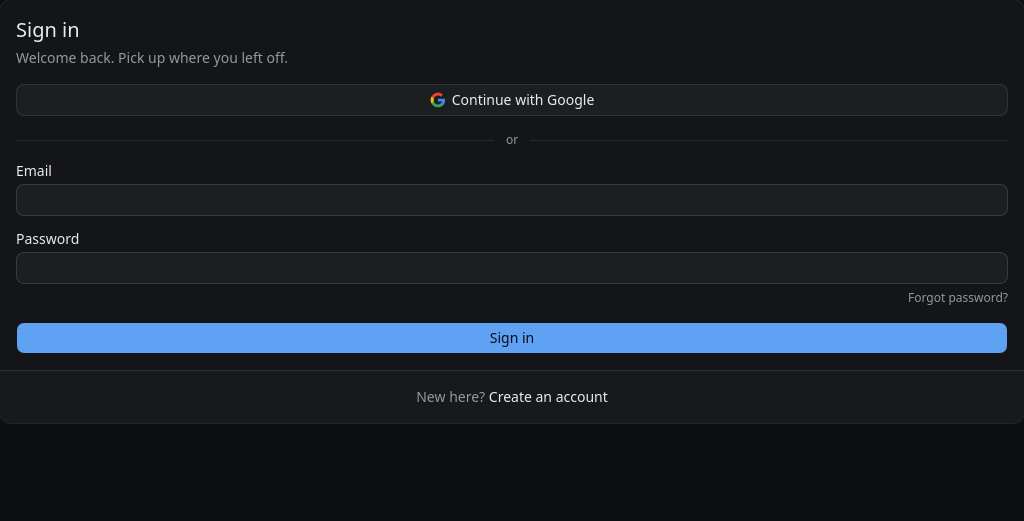
LoginPage › offers to resend the confirmation email for unconfirmed accounts
Type "ada@example.com" into the field labelled "Email" at (512, 200), box [16,184,1008,216]
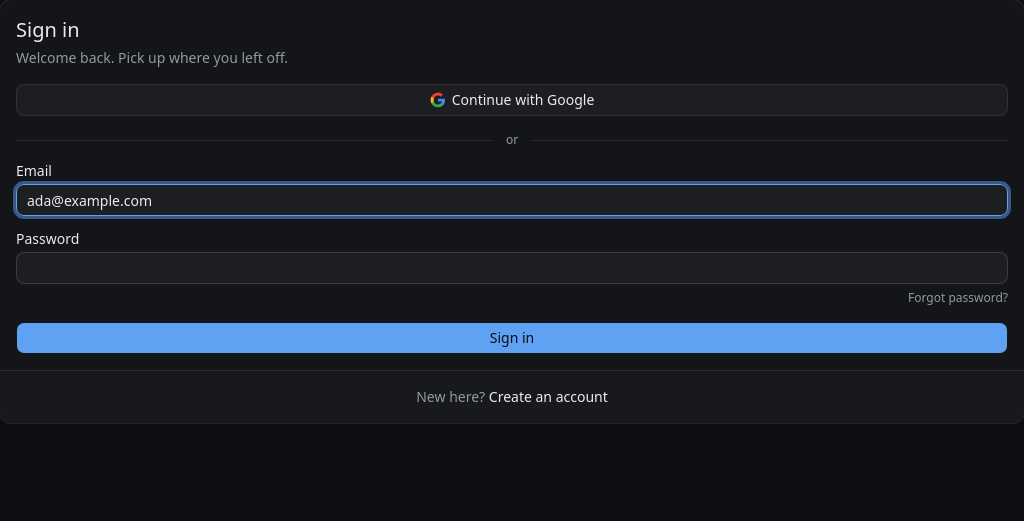
Type "whatever1" into the password field labelled "Password" at (512, 268), box [16,252,1008,284]
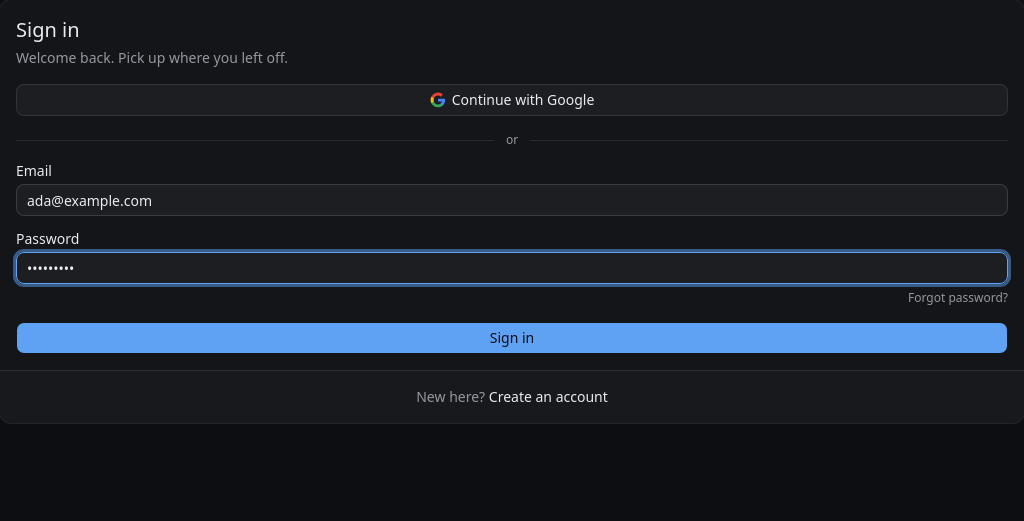
Click the button "Sign in" at (512, 338), box [16,322,1008,354]
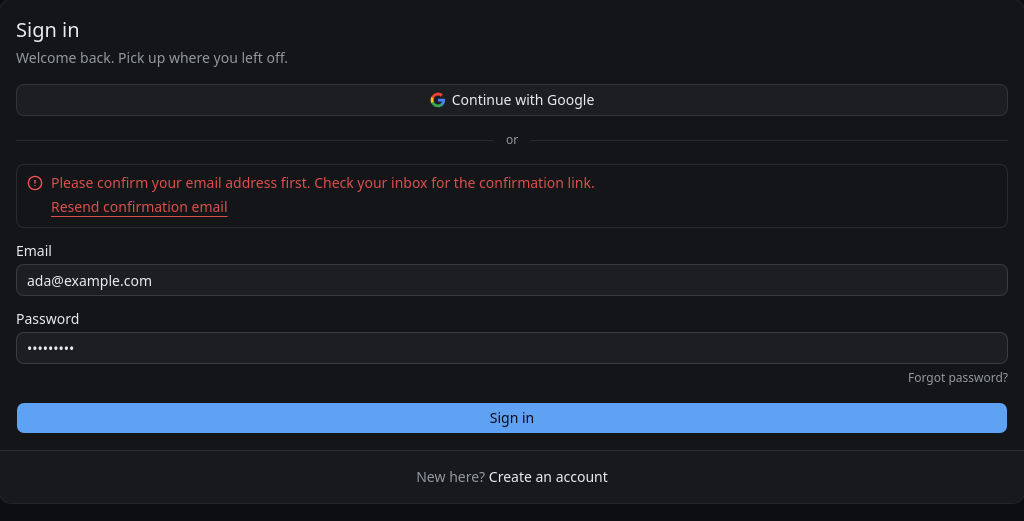
Now the text "confirm your email" is shown, box [51,173,595,192]
Now the button "Resend confirmation email" is shown, box [51,197,228,217]
